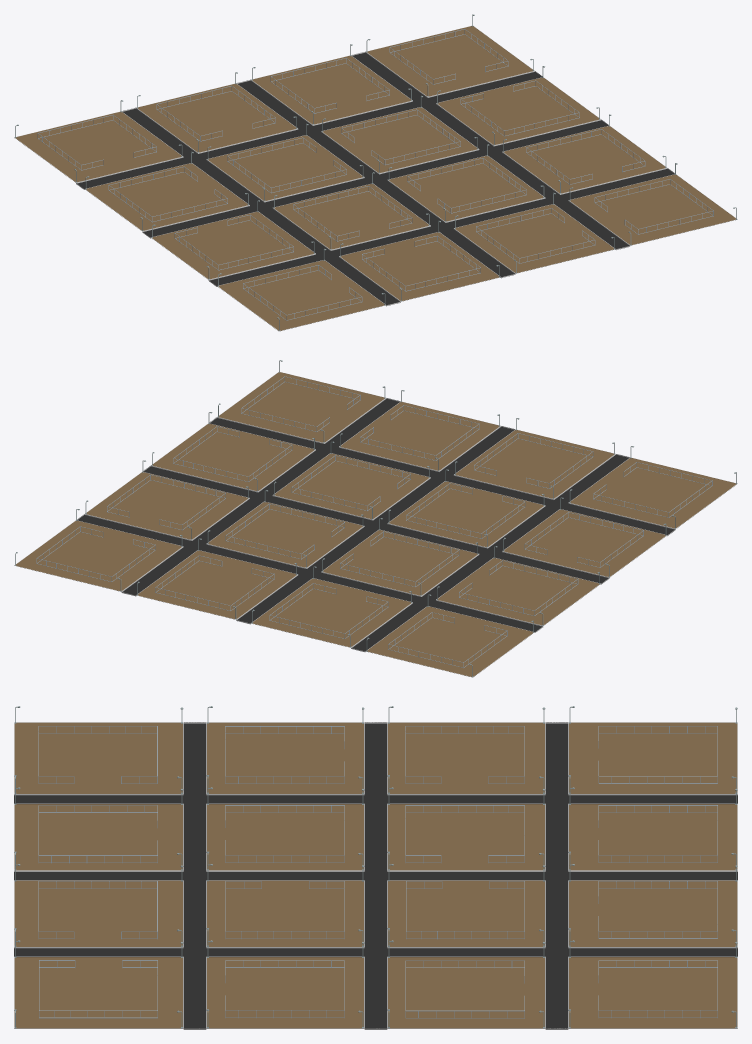
The model's file is snowmapcit.fbx.
The picture shows the model from 3 angles, top to bottom: view 1: azimuth 30°, elevation 25°; view 2: azimuth 150°, elevation 25°; view 3: azimuth 270°, elevation 25°; orthographic projection. The views are drawn at different scales.
Visible parts, largest first — view 1: Plane, kaldirimtasi, bahcedemirligi.014, bahcedemirligi.010, bahcedemirligi.006, bahcedemirligi.012, bahcedemirligi.013, bahcedemirligi.005, bahcedemirligi.1, bahcedemirligi.016, bahcedemirligi.7, bahcedemirligi.008 (+6 smaller); view 2: Plane, kaldirimtasi, bahcedemirligi.012, bahcedemirligi.010, bahcedemirligi.013, bahcedemirligi.005, bahcedemirligi.014, bahcedemirligi.1, bahcedemirligi.006, bahcedemirligi.015, bahcedemirligi.7, bahcedemirligi.011 (+6 smaller); view 3: Plane, kaldirimtasi, bahcedemirligi.015, bahcedemirligi.006, bahcedemirligi.2, bahcedemirligi.008, bahcedemirligi.009, bahcedemirligi.011, bahcedemirligi.016, bahcedemirligi.7, bahcedemirligi.4, bahcedemirligi.3 (+6 smaller).
Boxes of the visible parts, left/top/right/bottom form: Plane: left=15, top=26, right=736, bottom=331; kaldirimtasi: left=14, top=26, right=737, bottom=331; bahcedemirligi.014: left=341, top=109, right=460, bottom=165; bahcedemirligi.010: left=407, top=158, right=526, bottom=213; bahcedemirligi.006: left=594, top=179, right=713, bottom=234; bahcedemirligi.012: left=108, top=166, right=227, bottom=222; bahcedemirligi.013: left=227, top=137, right=346, bottom=193; bahcedemirligi.005: left=476, top=208, right=595, bottom=263; bahcedemirligi.1: left=243, top=265, right=362, bottom=320; bahcedemirligi.016: left=389, top=29, right=508, bottom=84; bahcedemirligi.7: left=270, top=58, right=389, bottom=113; bahcedemirligi.008: left=174, top=215, right=293, bottom=270; Plane: left=16, top=372, right=736, bottom=676; kaldirimtasi: left=14, top=372, right=737, bottom=677; bahcedemirligi.012: left=459, top=560, right=578, bottom=615; bahcedemirligi.010: left=291, top=455, right=410, bottom=510; bahcedemirligi.013: left=340, top=531, right=459, bottom=586; bahcedemirligi.005: left=360, top=405, right=479, bottom=460; bahcedemirligi.014: left=225, top=503, right=344, bottom=559; bahcedemirligi.1: left=593, top=462, right=712, bottom=517; bahcedemirligi.006: left=241, top=376, right=360, bottom=431; bahcedemirligi.015: left=107, top=474, right=225, bottom=530; bahcedemirligi.7: left=155, top=555, right=274, bottom=610; bahcedemirligi.011: left=173, top=426, right=292, bottom=481; Plane: left=14, top=722, right=737, bottom=1029; kaldirimtasi: left=14, top=722, right=737, bottom=1029; bahcedemirligi.015: left=405, top=960, right=524, bottom=1018; bahcedemirligi.006: left=39, top=960, right=157, bottom=1018; bahcedemirligi.2: left=38, top=805, right=157, bottom=863; bahcedemirligi.008: left=225, top=726, right=344, bottom=783; bahcedemirligi.009: left=225, top=805, right=344, bottom=862; bahcedemirligi.011: left=225, top=960, right=344, bottom=1017; bahcedemirligi.016: left=598, top=960, right=717, bottom=1017; bahcedemirligi.7: left=598, top=881, right=717, bottom=938; bahcedemirligi.4: left=598, top=805, right=717, bottom=862; bahcedemirligi.3: left=598, top=726, right=717, bottom=783.
Size of the model in its own units: 870 by 23.87 by 870.
